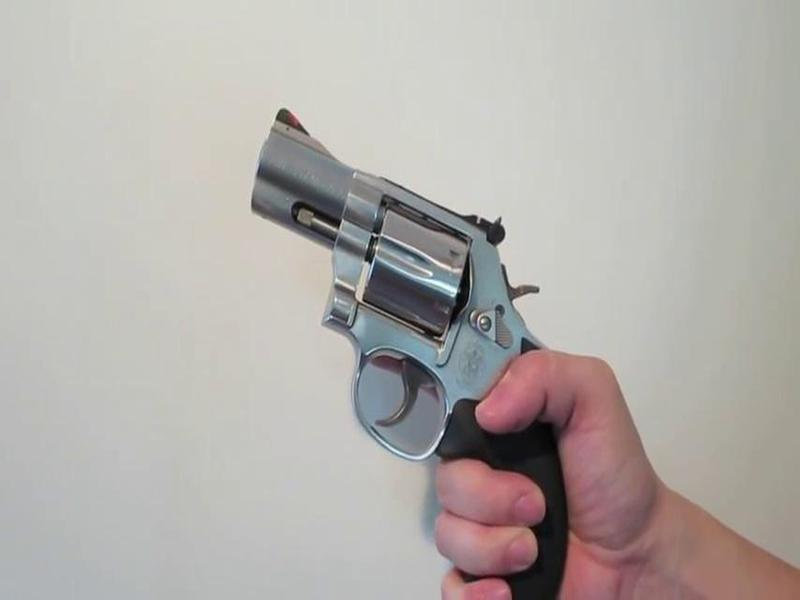Revolver: (247, 84, 572, 561)
